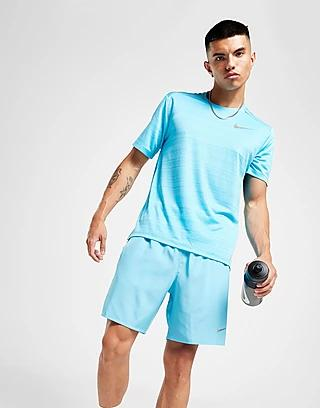Shorts: (99, 235, 232, 348)
short sleeve shirt: (127, 87, 276, 270)
